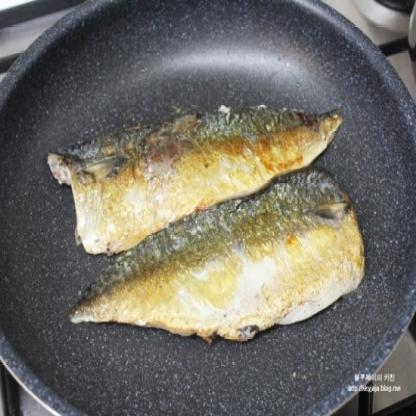Peixe: (43, 88, 366, 351)
